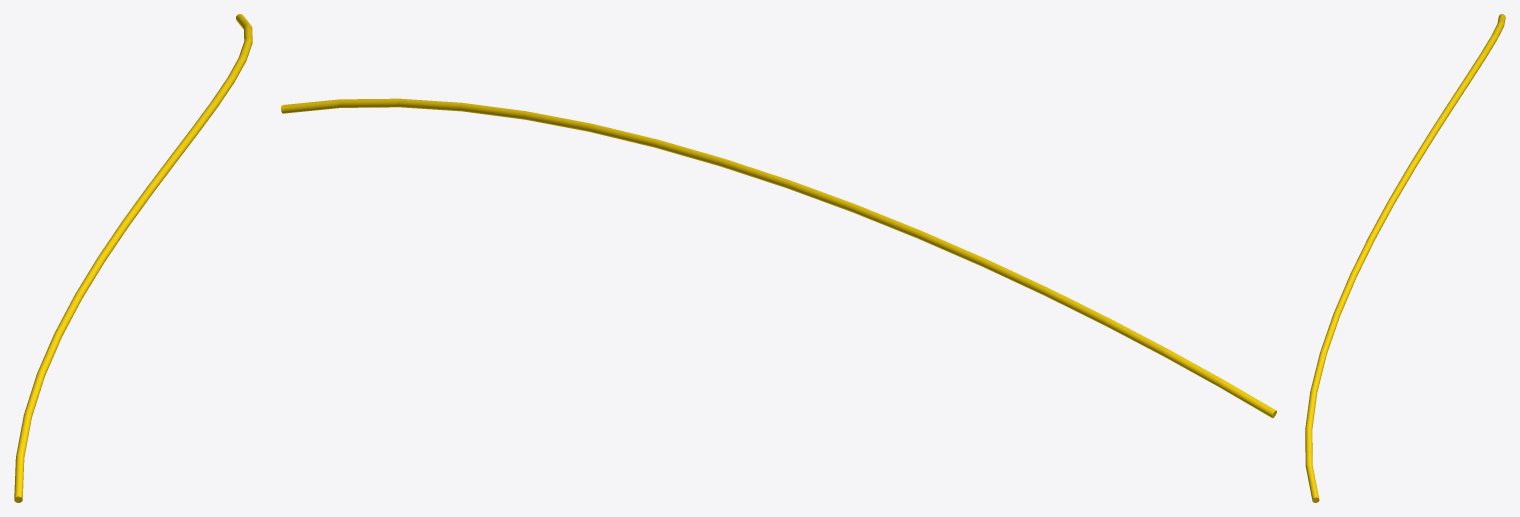
File: Event_421364160_track_63.fbx
3 views of the same model, side by side, from view 1: azimuth 90°, elevation 25°; view 2: azimuth 150°, elevation 25°; view 3: azimuth 270°, elevation 25° (orthographic). The views are drawn at different scales.
Visible parts, largest first — view 1: Model; view 2: Model; view 3: Model.
Part boxes in pixels (bbox=[...]): Model: bbox=[14, 14, 252, 502]; Model: bbox=[281, 98, 1276, 418]; Model: bbox=[1305, 14, 1505, 502].
Size of the model in its own units: 5.9 by 0.5431 by 1.12.
